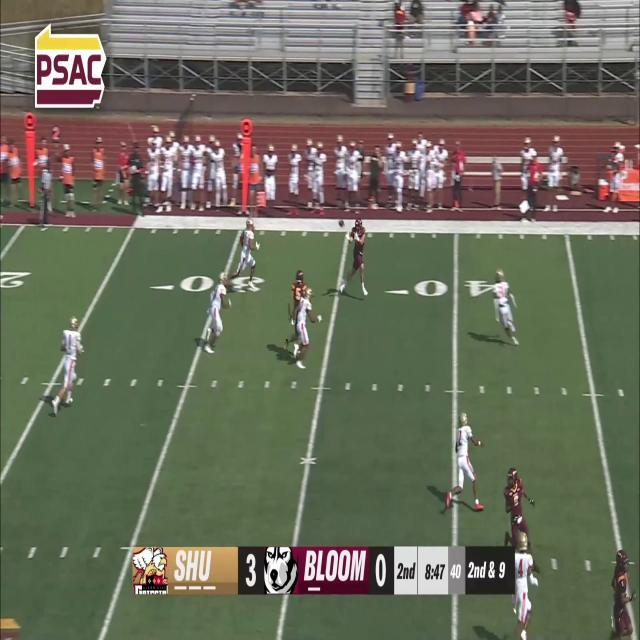football: (338, 220, 344, 228)
